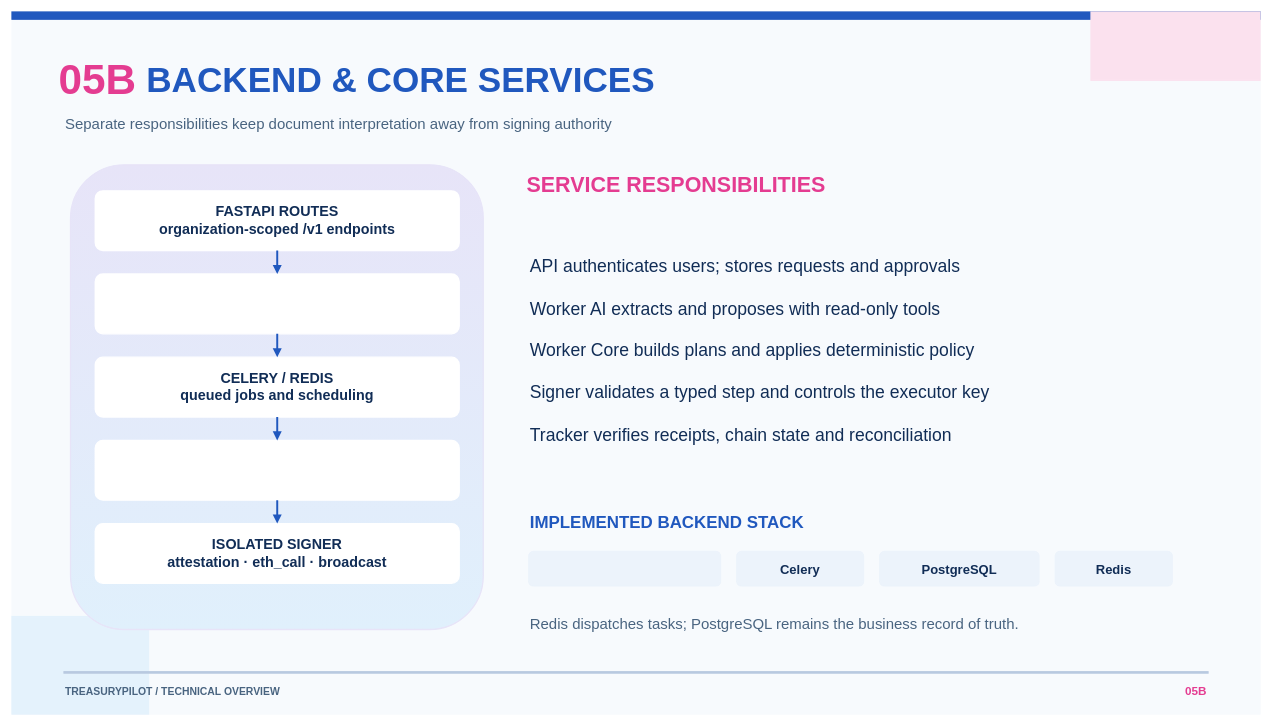
Image size: 1271x725. Some labels were removed from this diagram. Here are the shapes that lost their labels. From the top down, the box of each, then its label:
(94, 273, 460, 334): IDENTITY + APPROVAL RBAC · maker-checker · typed data
(94, 439, 460, 500): WORKER CORE + PY-CORE liquidity · EDF/CP-SAT · policy
(528, 551, 721, 586): FastAPI / Python
